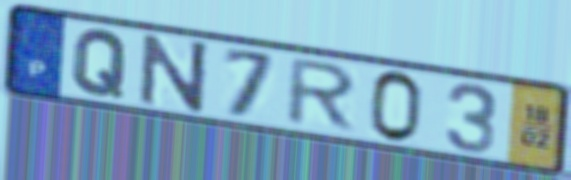0: (367, 69, 426, 143)
3: (443, 81, 500, 154)
7: (220, 46, 280, 122)
N: (136, 31, 212, 115)
Q: (69, 27, 132, 101)
R: (281, 56, 362, 134)
